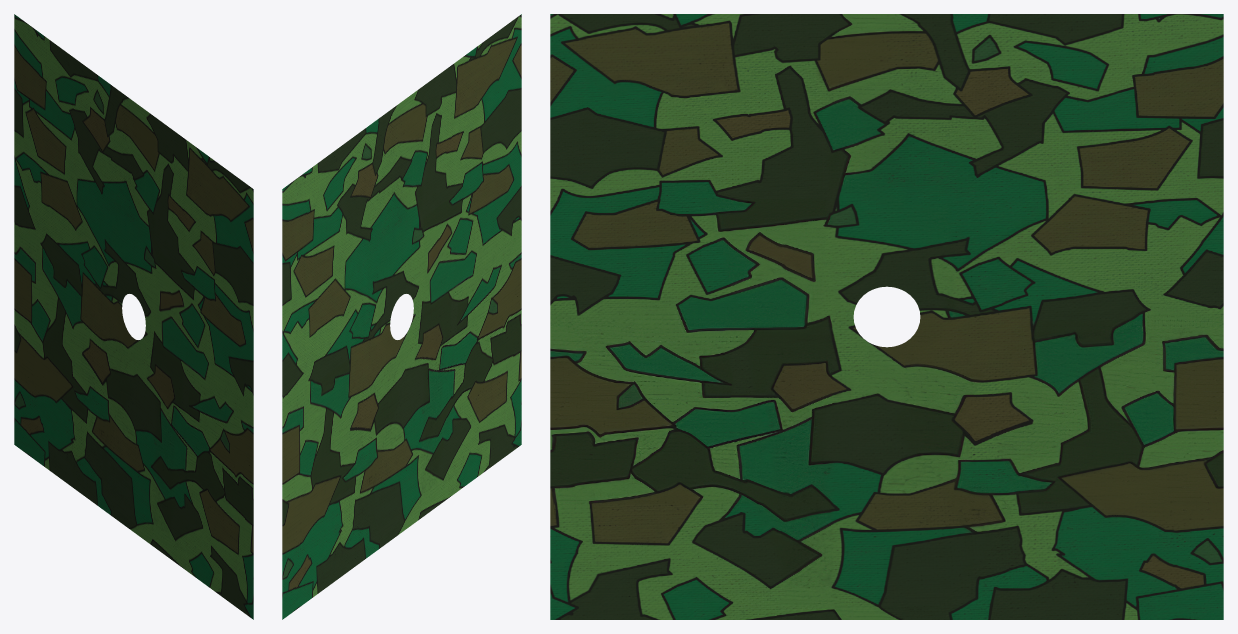
Rendered from suelo1.fbx.
3 renders of one model, left to right at view 1: azimuth 30°, elevation 25°; view 2: azimuth 150°, elevation 25°; view 3: azimuth 270°, elevation 25°, orthographic. The views are drawn at different scales.
Visible parts, largest first — view 1: suelo1; view 2: suelo1; view 3: suelo1.
Part boxes in pixels (x1,y1,x2,y2): suelo1: (14,14,253,619); suelo1: (282,14,521,619); suelo1: (550,14,1223,619).
Size of the model in its own units: 1.2e-05 by 100 by 101.
1 material, 1 textured.
